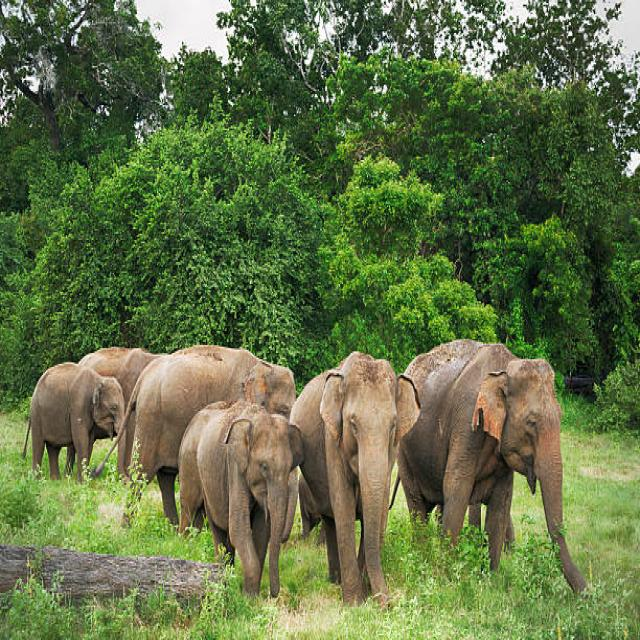Elephant: (402, 320, 583, 610), (127, 340, 285, 542), (304, 335, 418, 608), (187, 401, 303, 606), (25, 358, 126, 486)
